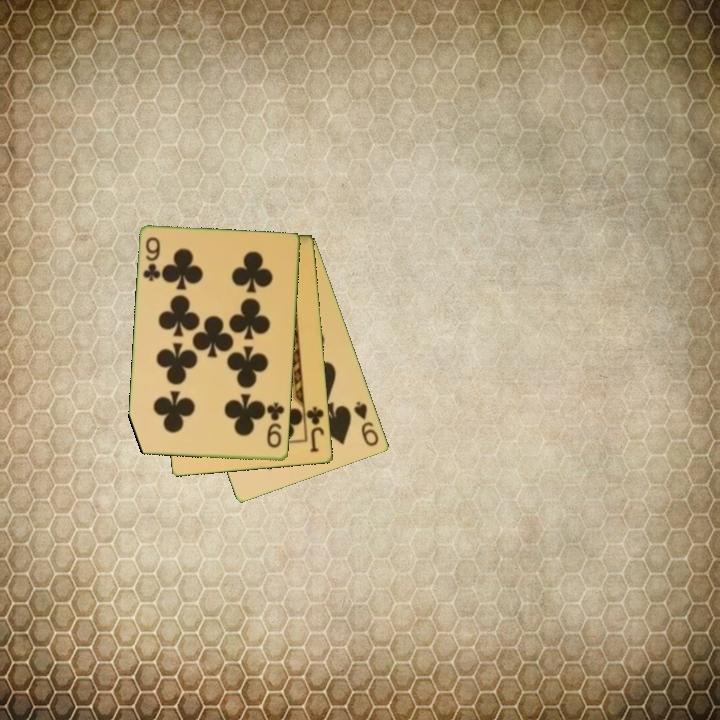9c: (264, 399, 287, 451), (140, 234, 163, 284)
9s: (351, 398, 382, 449)
Jc: (303, 403, 327, 455)
